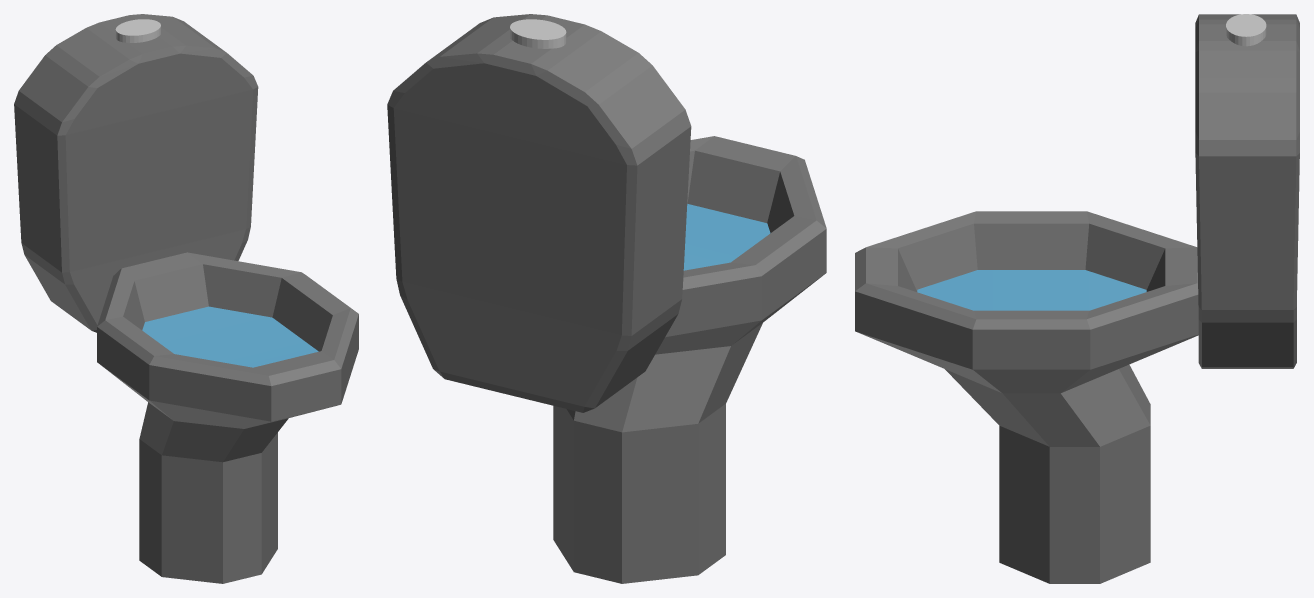
The model's file is PrisonToilet.fbx.
3 renders of one model, left to right at view 1: azimuth 30°, elevation 25°; view 2: azimuth 150°, elevation 25°; view 3: azimuth 270°, elevation 25°, orthographic. The views are drawn at different scales.
Parts seen in each view (by area): view 1: Plane.002; view 2: Plane.002; view 3: Plane.002.
Part boxes in pixels (bbox=[...]): Plane.002: bbox=[14, 14, 358, 583]; Plane.002: bbox=[387, 14, 826, 583]; Plane.002: bbox=[855, 14, 1299, 583].
Size of the model in its own units: 24.53 by 52.58 by 40.03.
